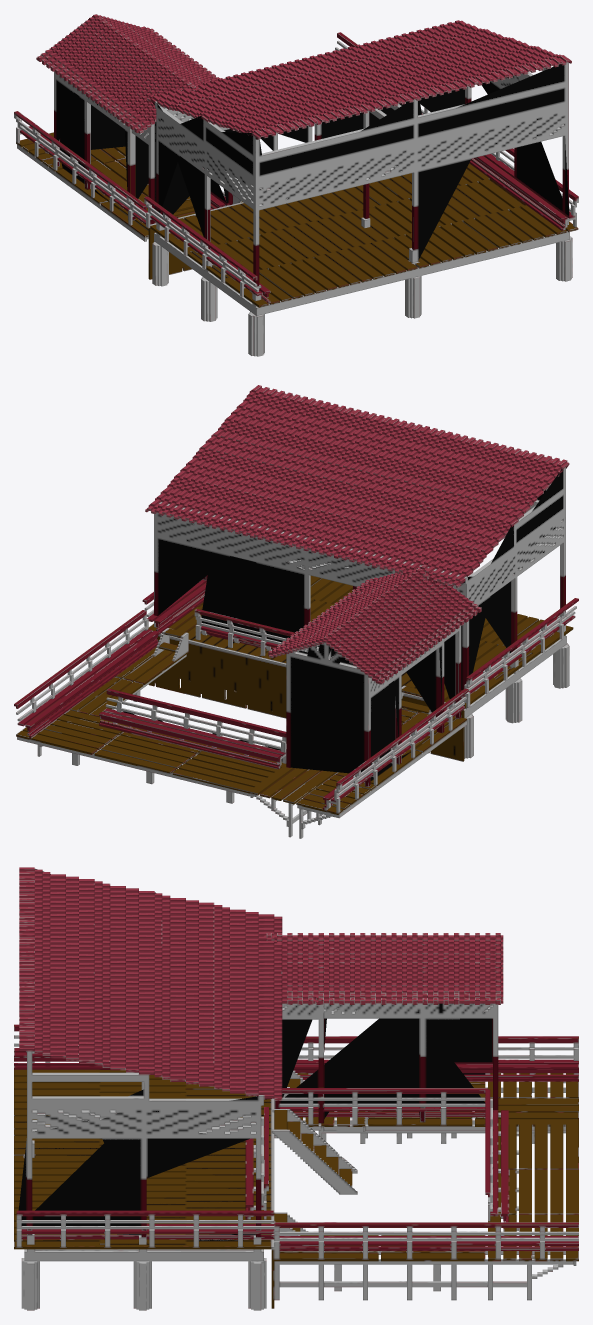
The model's file is Restaurante.fbx.
3 views of the same model, one above another, from view 1: azimuth 30°, elevation 25°; view 2: azimuth 150°, elevation 25°; view 3: azimuth 270°, elevation 25° (orthographic). The views are drawn at different scales.
Visible parts, largest first — view 1: Restaurante; view 2: Restaurante; view 3: Restaurante.
Boxes of the visible parts, bbox=[...] form: Restaurante: bbox=[14, 14, 578, 356]; Restaurante: bbox=[14, 385, 578, 838]; Restaurante: bbox=[14, 867, 578, 1310].
Size of the model in its own units: 1760 by 1110 by 2170.
